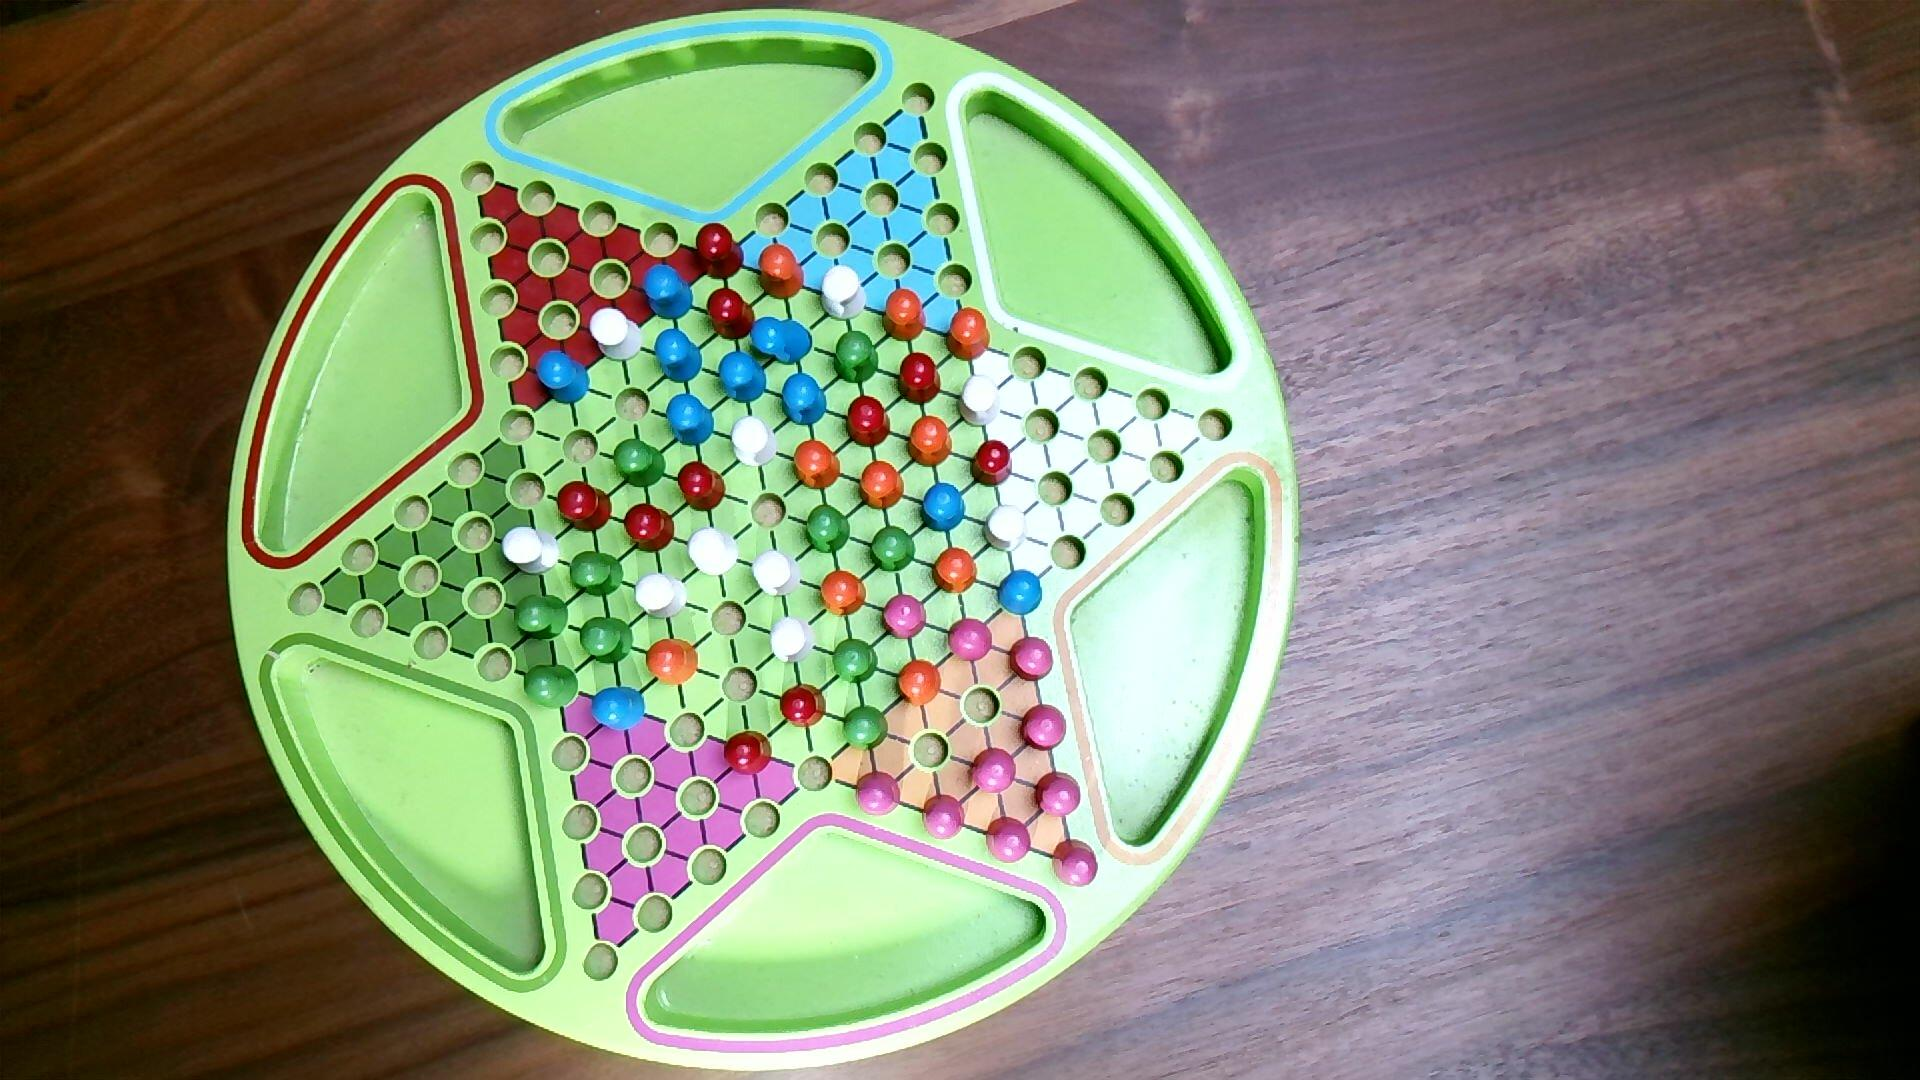B: (749, 315, 814, 367), (535, 349, 592, 406), (641, 262, 695, 322), (653, 327, 705, 385), (665, 392, 716, 448), (717, 349, 767, 406), (781, 371, 829, 427), (589, 686, 647, 733), (919, 483, 968, 534), (996, 568, 1044, 618)
G: (612, 438, 669, 491), (579, 615, 636, 666), (513, 593, 571, 644), (568, 549, 626, 597), (524, 663, 582, 712), (833, 328, 881, 385), (804, 504, 853, 556), (841, 703, 891, 753), (869, 524, 918, 574), (831, 637, 880, 684)
O: (756, 243, 806, 302), (645, 638, 702, 688), (791, 439, 843, 492), (945, 306, 993, 363), (881, 287, 928, 344), (906, 414, 953, 469), (858, 459, 907, 512), (819, 568, 869, 618), (895, 658, 944, 708), (931, 546, 978, 596)
R: (695, 222, 746, 282), (556, 480, 615, 533), (622, 502, 676, 555), (705, 287, 757, 343), (676, 460, 728, 514), (897, 349, 944, 407), (844, 394, 893, 448), (723, 729, 775, 778), (778, 682, 829, 731), (971, 438, 1015, 491)
R2: (1051, 837, 1100, 890), (984, 816, 1033, 866), (1033, 770, 1083, 819), (969, 746, 1019, 795), (1021, 703, 1069, 753), (945, 617, 996, 665), (855, 770, 903, 818), (1007, 636, 1055, 684), (881, 593, 928, 642), (920, 793, 967, 843)
W: (501, 525, 562, 578), (588, 307, 644, 363), (819, 262, 868, 323), (687, 526, 741, 579), (633, 572, 690, 621), (729, 415, 779, 469), (752, 549, 803, 599), (769, 615, 818, 666), (957, 373, 1002, 429), (982, 502, 1029, 555)
